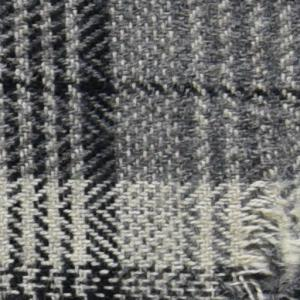Damage: (215, 160, 300, 300)
